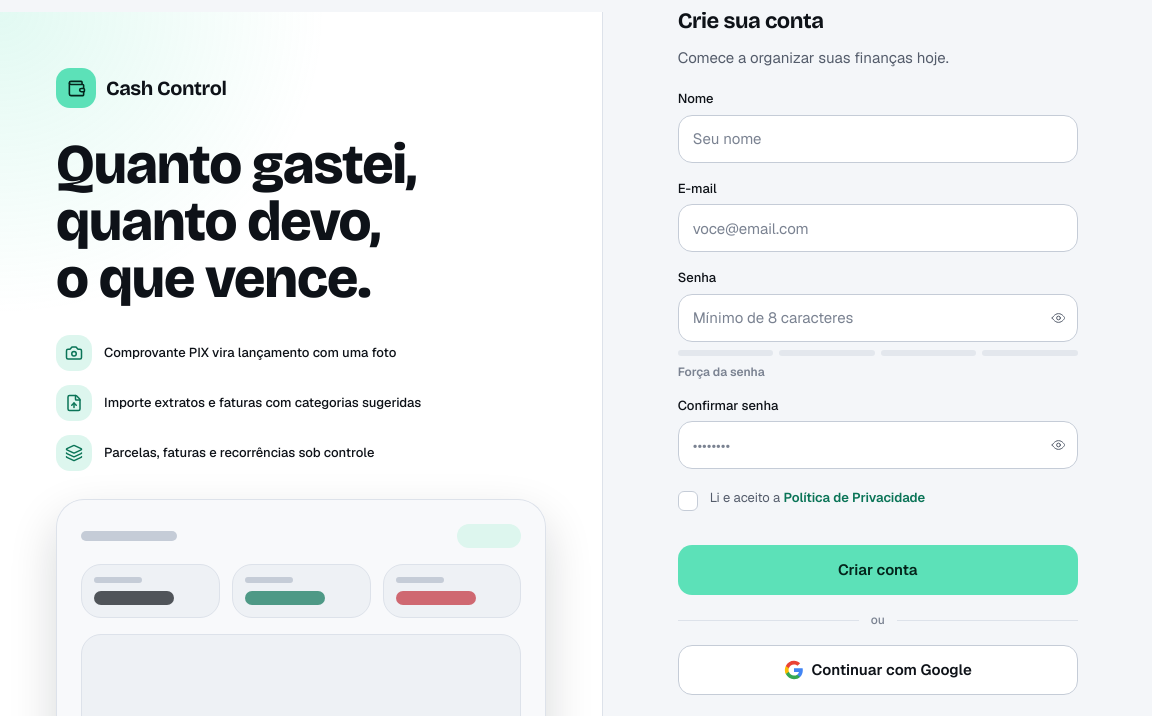
Test: RegisterPage — accessibility › blocks submission until the privacy policy is accepted
Step 1. Type "Test User" into the field labelled "Nome" → [878, 139], box left=678, top=115, right=1078, bottom=163
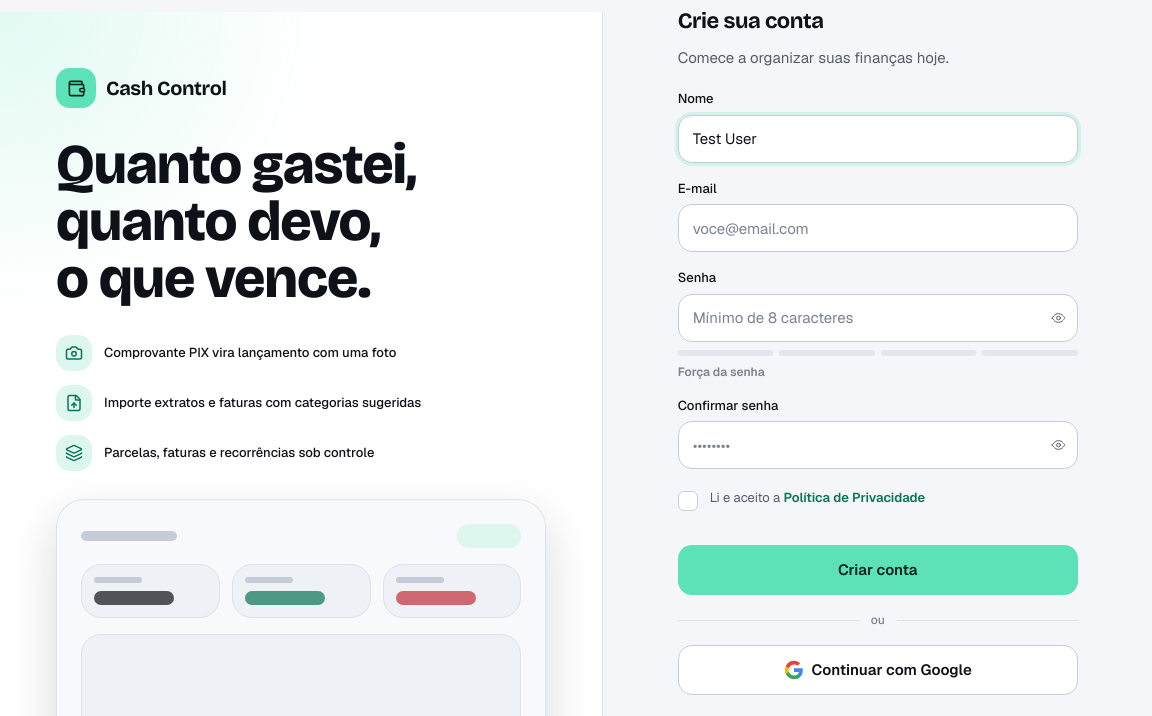
Step 2. Type "newuser@example.com" into the field labelled "E-mail" → [878, 228], box left=678, top=204, right=1078, bottom=252
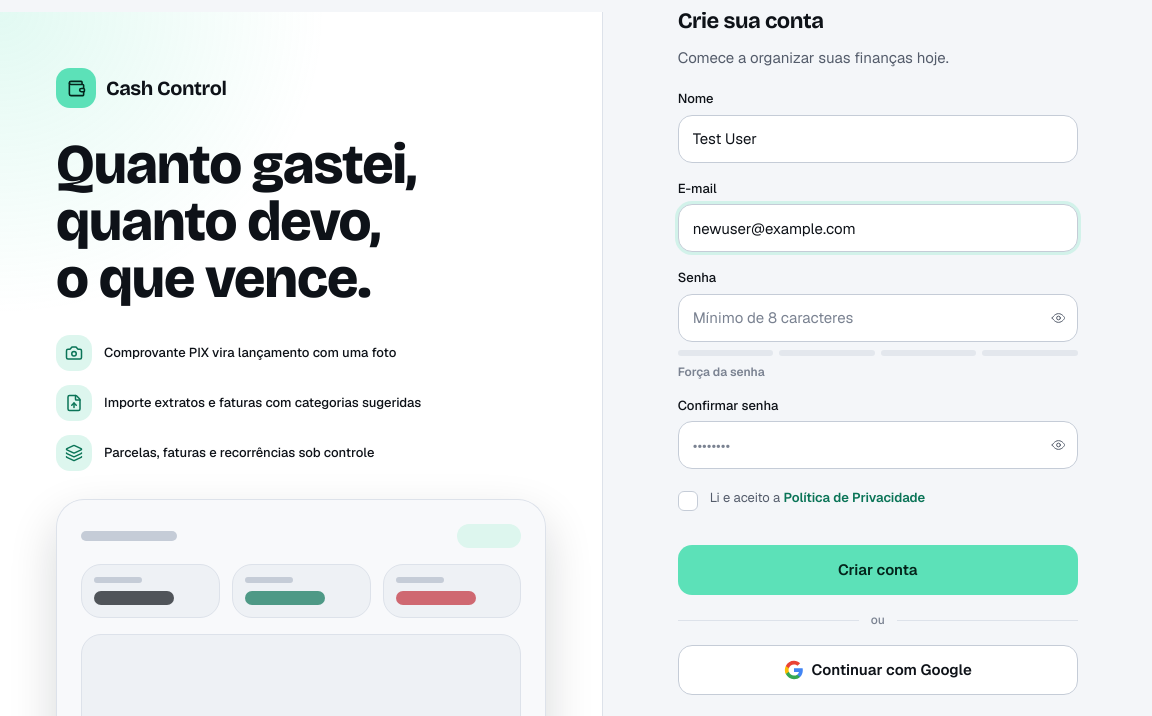
Step 3. Type "password123" into the password field labelled "Senha" → [878, 318], box left=678, top=294, right=1078, bottom=342
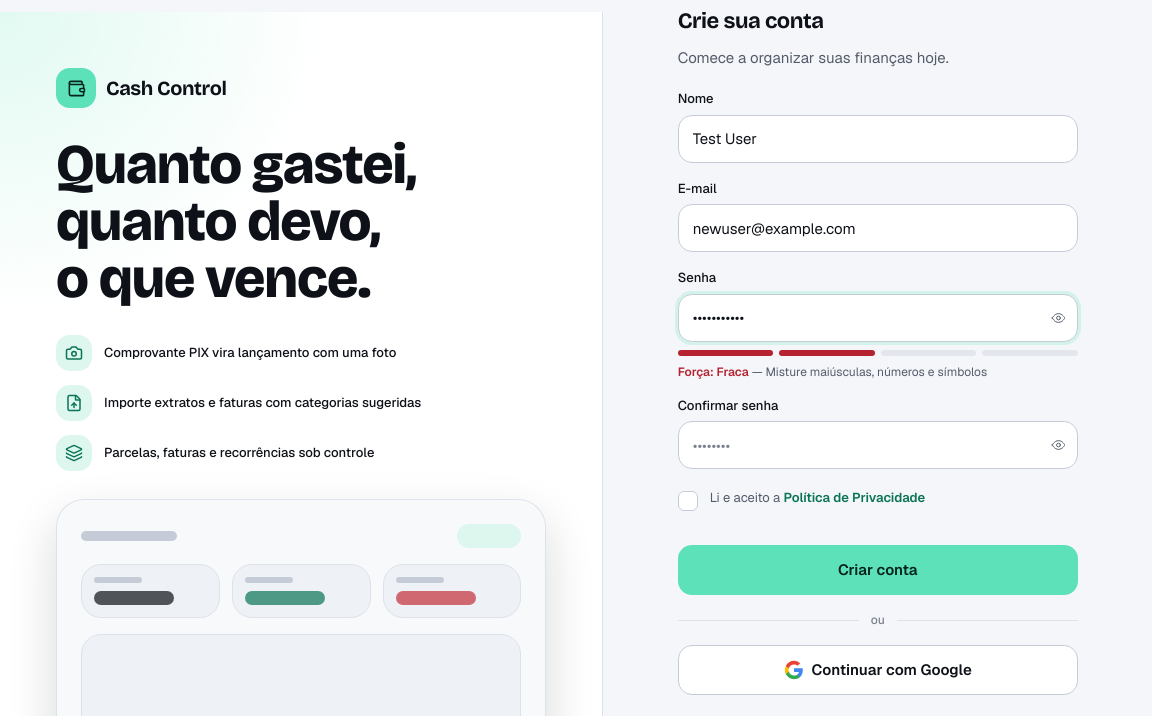
Step 4. Type "password123" into the password field labelled "Confirmar senha" → [878, 445], box left=678, top=421, right=1078, bottom=469
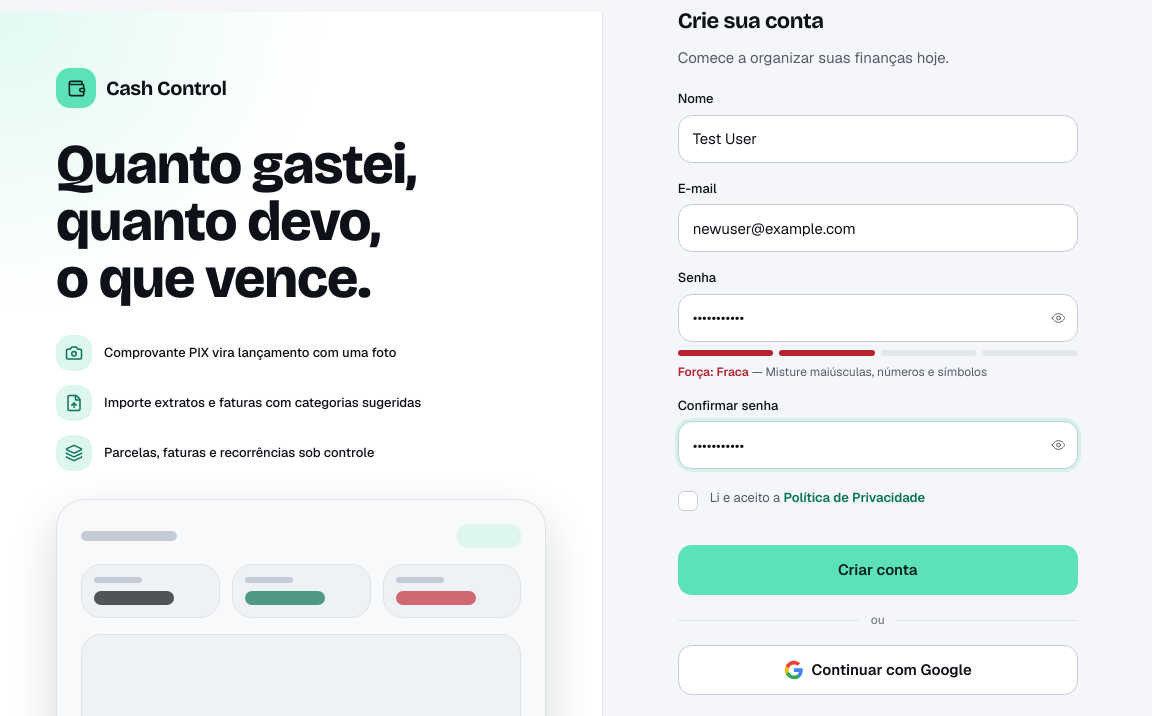
Step 5. Click the button "Criar conta" → [878, 570], box left=678, top=545, right=1078, bottom=595
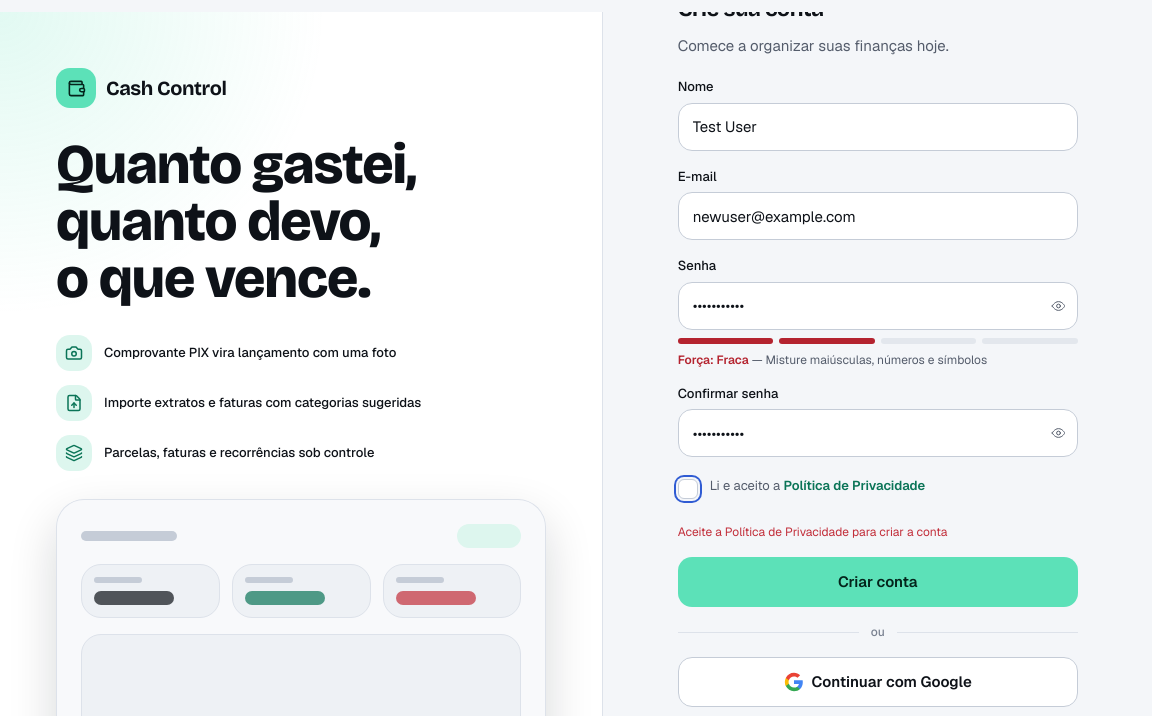
Result: the text "Aceite a Política de Privacidade para criar a conta" is shown at left=678, top=524, right=947, bottom=540
